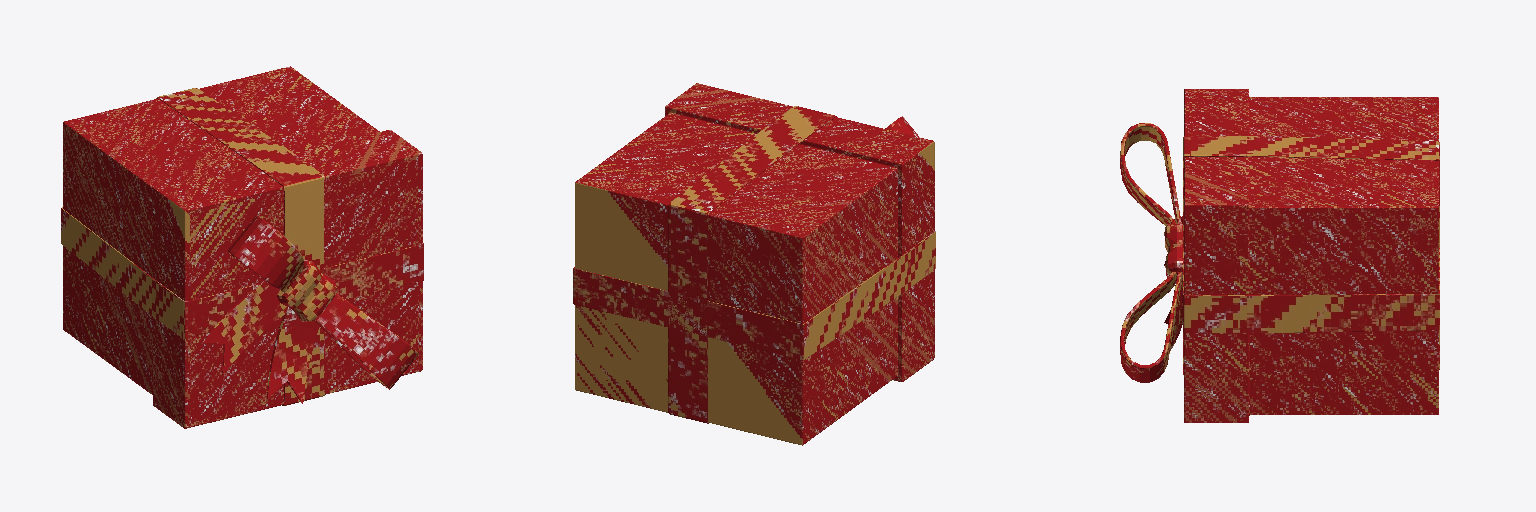
The picture shows the model from 3 angles: view 1: azimuth 30°, elevation 25°; view 2: azimuth 150°, elevation 25°; view 3: azimuth 270°, elevation 25°; orthographic projection.
Parts seen in each view (by area): view 1: giftbox; view 2: giftbox; view 3: giftbox.
Boxes of the visible parts, x1,y1,x2,y2 form: giftbox: [61, 66, 423, 428]; giftbox: [573, 83, 935, 445]; giftbox: [1120, 89, 1439, 422].
Size of the model in its own units: 17.11 by 15.04 by 19.71.
Materials: 1 (1 with a texture image).